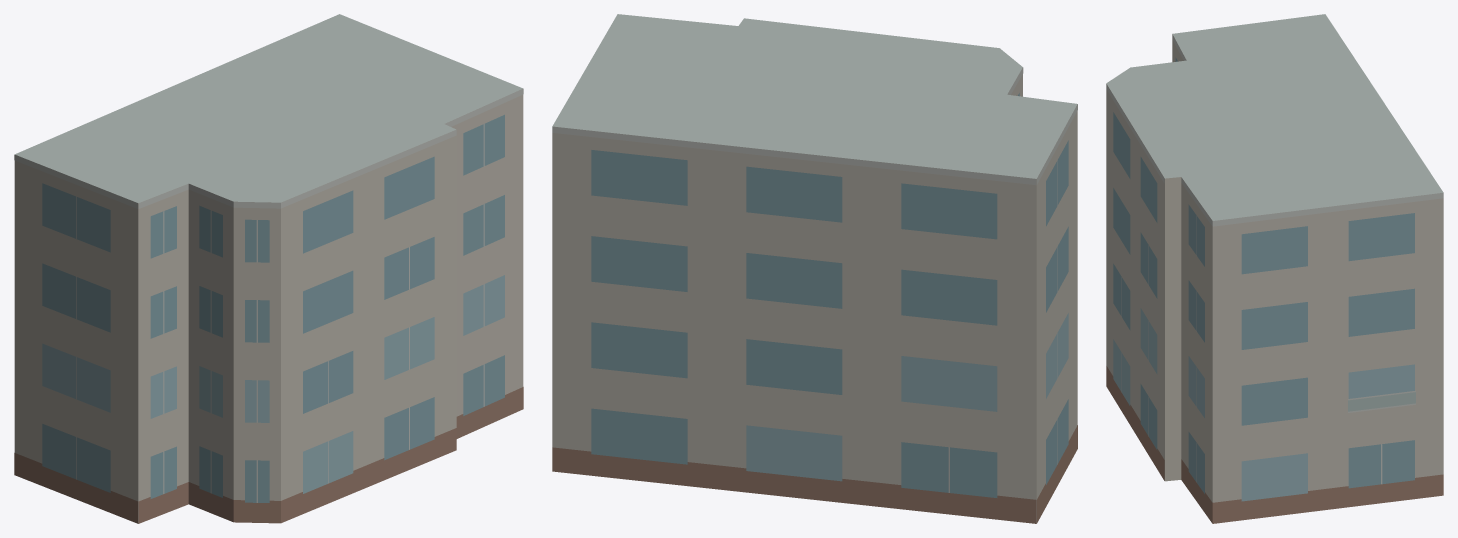
Rendered from survey-upis-32723260.glb.
The picture shows the model from 3 angles, left to right: view 1: azimuth 30°, elevation 25°; view 2: azimuth 150°, elevation 25°; view 3: azimuth 270°, elevation 25°; orthographic projection. The views are drawn at different scales.
Visible parts, largest first — view 1: survey-upis-32723260.tmp; view 2: survey-upis-32723260.tmp; view 3: survey-upis-32723260.tmp.
Part boxes in pixels (bbox=[...]): survey-upis-32723260.tmp: bbox=[14, 14, 523, 523]; survey-upis-32723260.tmp: bbox=[552, 14, 1077, 523]; survey-upis-32723260.tmp: bbox=[1106, 14, 1443, 523].
Size of the model in its own units: 19.36 by 13.2 by 13.34.
